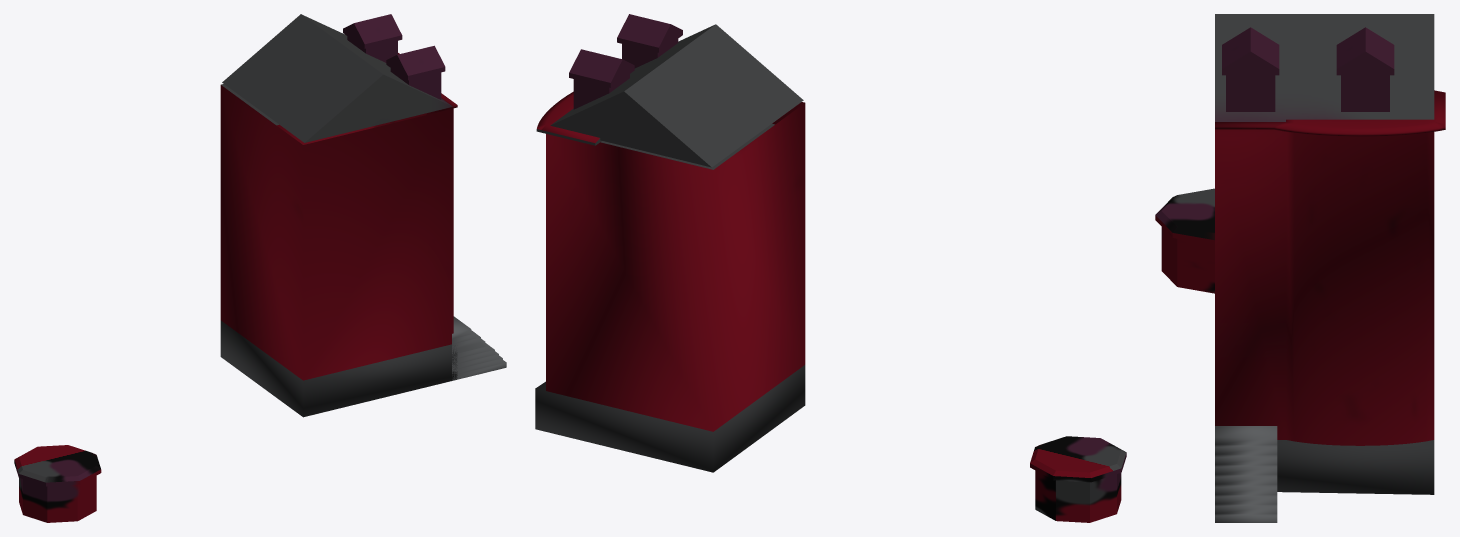
Rendered from House_1.fbx.
3 views of the same model, side by side, from view 1: azimuth 30°, elevation 25°; view 2: azimuth 150°, elevation 25°; view 3: azimuth 270°, elevation 25° (orthographic). The views are drawn at different scales.
Visible parts, largest first — view 1: Cube; view 2: Cube; view 3: Cube.
Part boxes in pixels (bbox=[...]): Cube: bbox=[14, 14, 506, 522]; Cube: bbox=[535, 14, 1126, 522]; Cube: bbox=[1155, 14, 1445, 522].
Size of the model in its own units: 2074 by 1446 by 806.
1 material, 1 textured.
